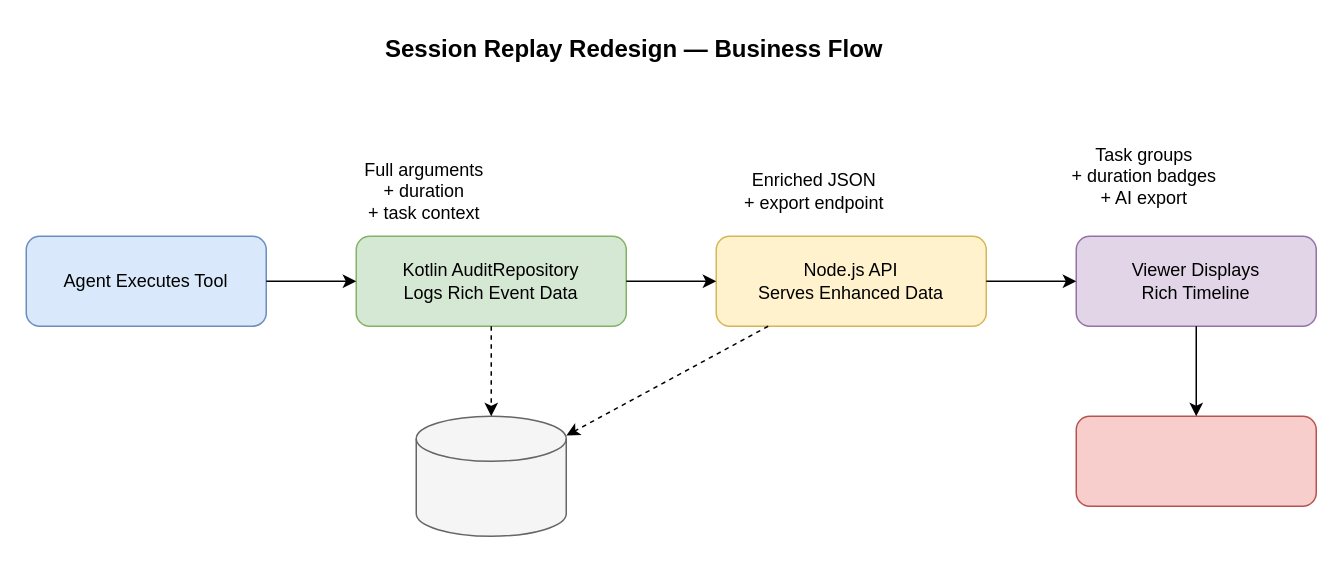
This 1343x563 diagram has some shape labels left out. Each missing label, with the centre of its shape:
"memory_audit table (SQLite)" belongs at point (490, 475).
"User/AI Exports Session as Markdown" belongs at point (1195, 460).
